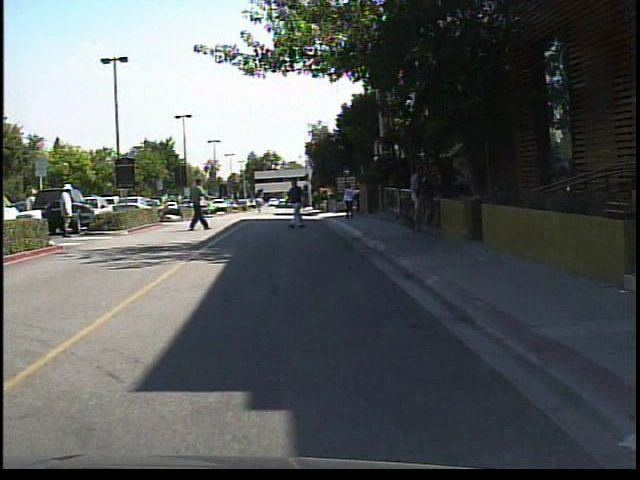person: (404, 153, 435, 238), (185, 172, 212, 234), (285, 174, 313, 232), (425, 164, 448, 234), (58, 179, 82, 240), (22, 183, 44, 240), (338, 179, 357, 225), (193, 189, 209, 220), (253, 191, 269, 215)
